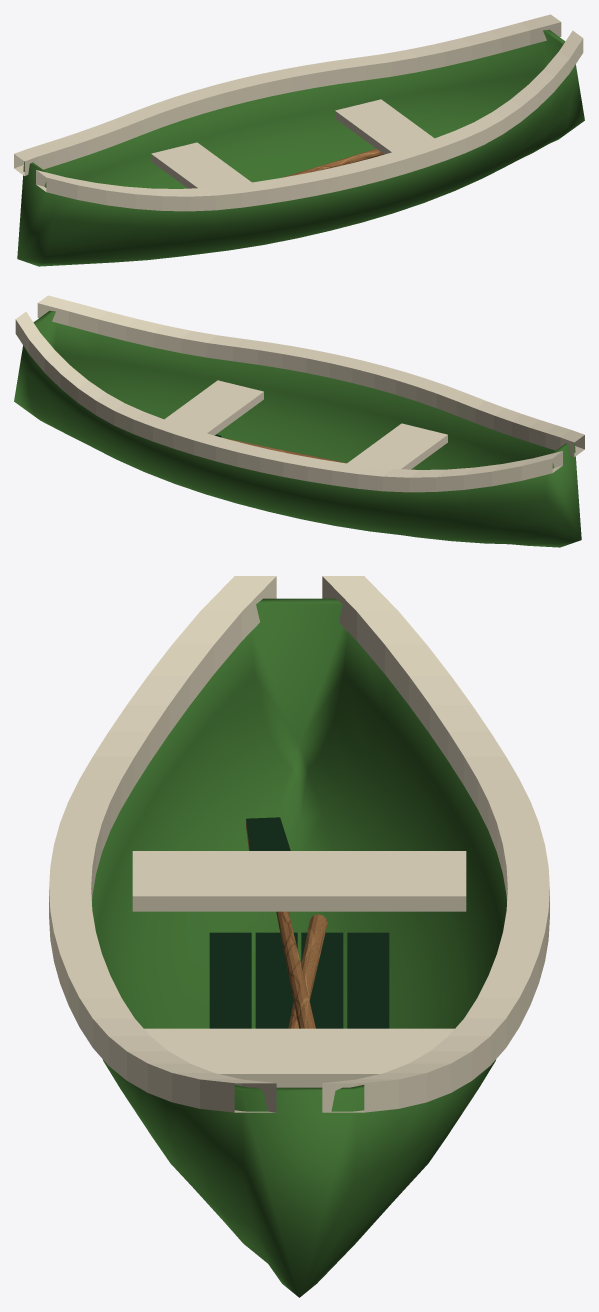
Rendered from perahu-hijau-blender-v1.glb.
The picture shows the model from 3 angles, top to bottom: view 1: azimuth 30°, elevation 25°; view 2: azimuth 150°, elevation 25°; view 3: azimuth 270°, elevation 25°; orthographic projection. The views are drawn at different scales.
Visible parts, largest first — view 1: hull, rails, thwarts_cream, oars_wood; view 2: hull, rails, thwarts_cream; view 3: hull, rails, thwarts_cream, floor_dgreen, oars_wood.
Part boxes in pixels (x1=…): hull: x1=17, y1=29, x2=584, y2=266; rails: x1=14, y1=14, x2=583, y2=211; thwarts_cream: x1=151, y1=99, x2=434, y2=188; oars_wood: x1=282, y1=149, x2=383, y2=177; hull: x1=14, y1=310, x2=581, y2=547; rails: x1=15, y1=295, x2=584, y2=492; thwarts_cream: x1=164, y1=380, x2=447, y2=469; hull: x1=92, y1=598, x2=506, y2=1297; rails: x1=49, y1=576, x2=549, y2=1112; thwarts_cream: x1=132, y1=851, x2=466, y2=1087; floor_dgreen: x1=209, y1=817, x2=389, y2=1028; oars_wood: x1=246, y1=820, x2=327, y2=1028.
Bounding box in the file's own units: 3.43 × 0.7694 × 1.31.
4 materials, 1 textured.
